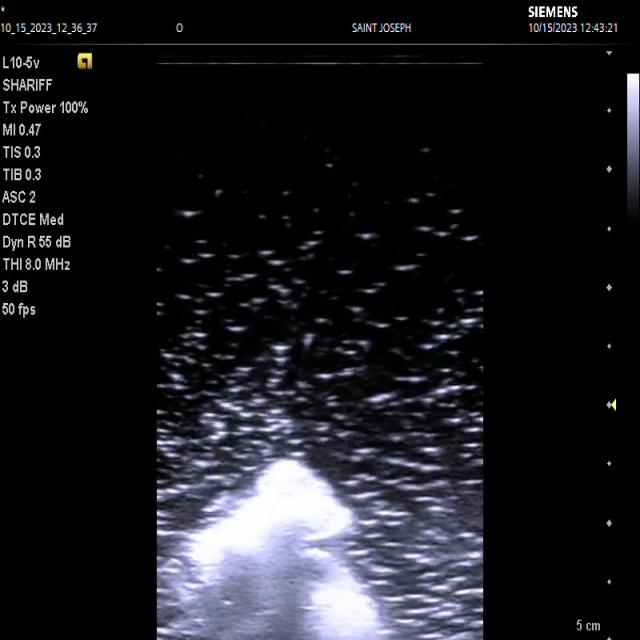tissue: (157, 459, 394, 640)
